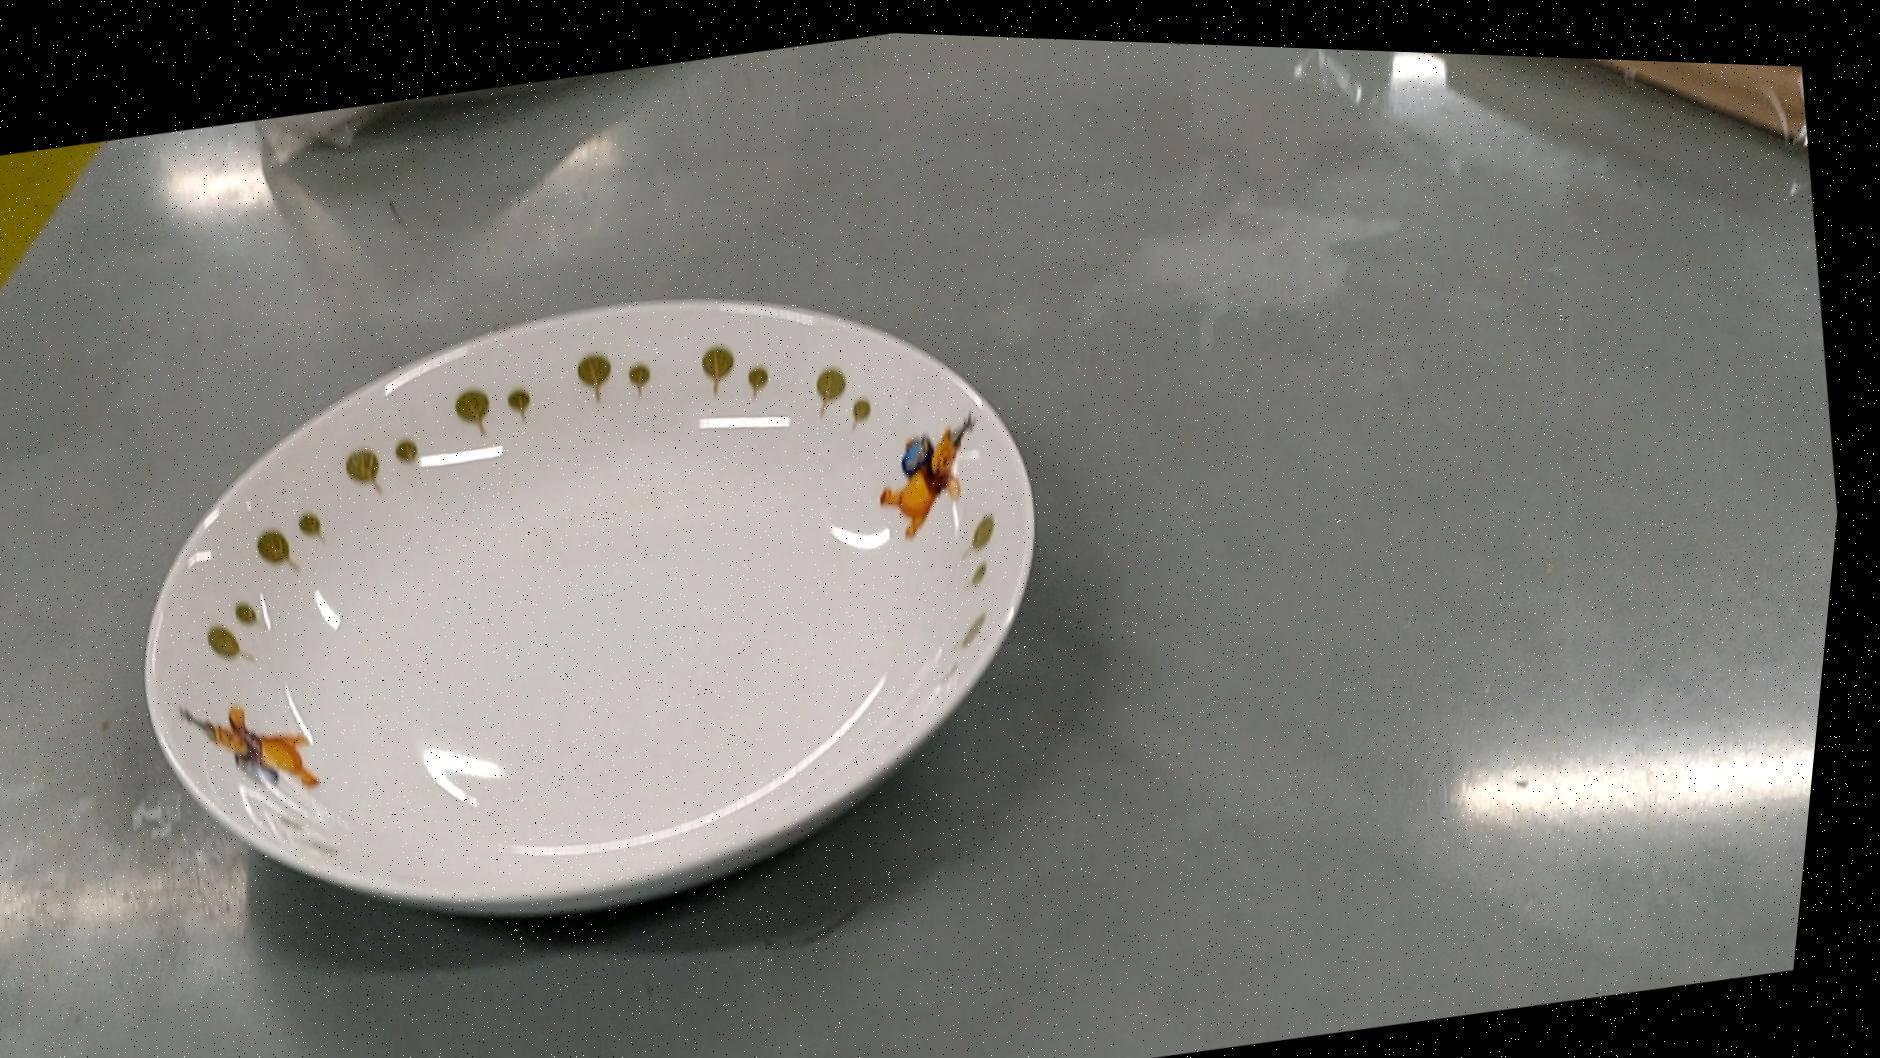plate: (84, 220, 1123, 987)
